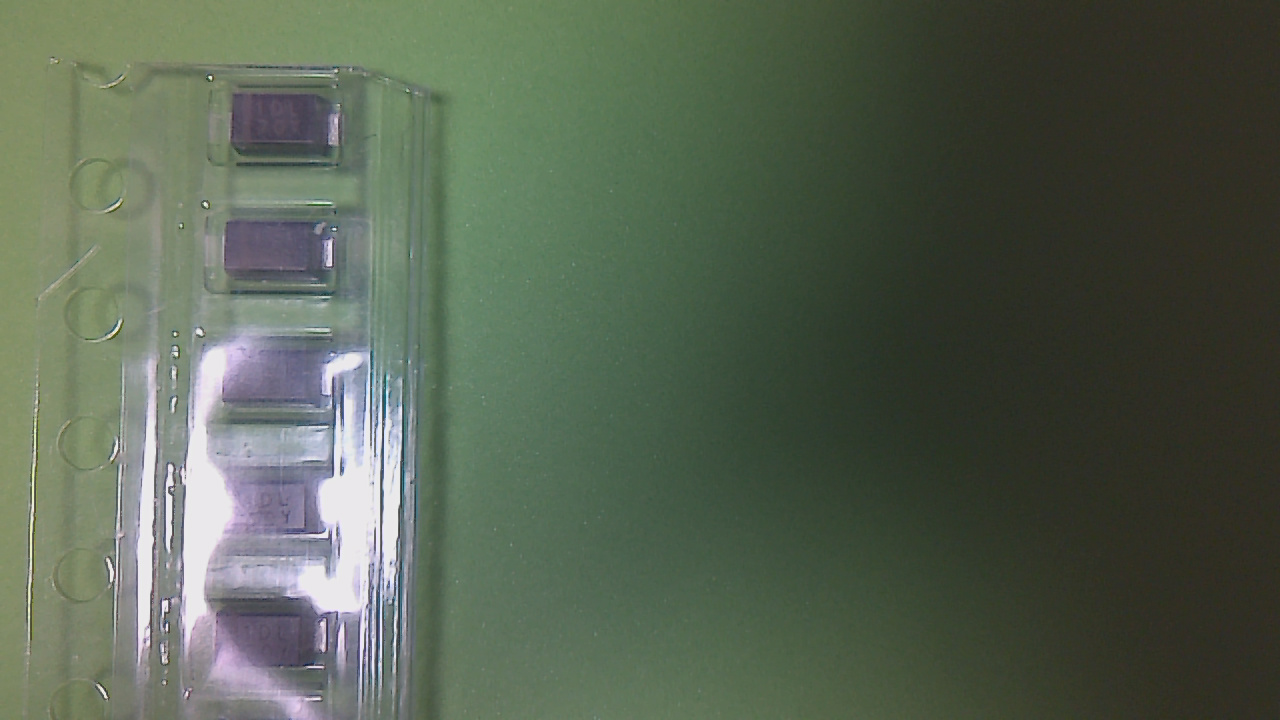Diode: (204, 342, 337, 417), (211, 223, 342, 295), (205, 607, 331, 675), (220, 94, 343, 160), (209, 475, 333, 540)
